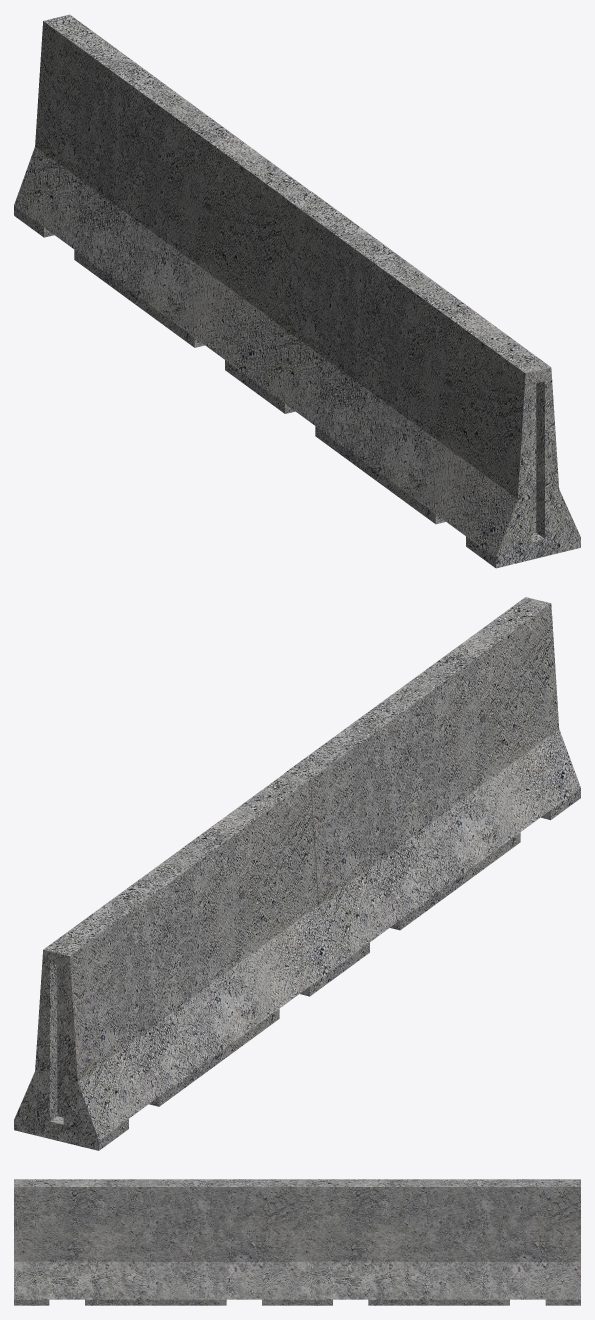
The model's file is Barreras.obj.
3 views of the same model, one above another, from view 1: azimuth 30°, elevation 25°; view 2: azimuth 150°, elevation 25°; view 3: azimuth 270°, elevation 25° (orthographic). The views are drawn at different scales.
Parts seen in each view (by area): view 1: Cube.003; view 2: Cube.003; view 3: Cube.003.
Boxes of the visible parts, left/top/right/bottom form: Cube.003: left=14, top=14, right=580, bottom=568; Cube.003: left=14, top=597, right=580, bottom=1150; Cube.003: left=14, top=1179, right=580, bottom=1305.
Size of the model in its own units: 0.611 by 1.29 by 6.
Materials: 1 (1 with a texture image).
